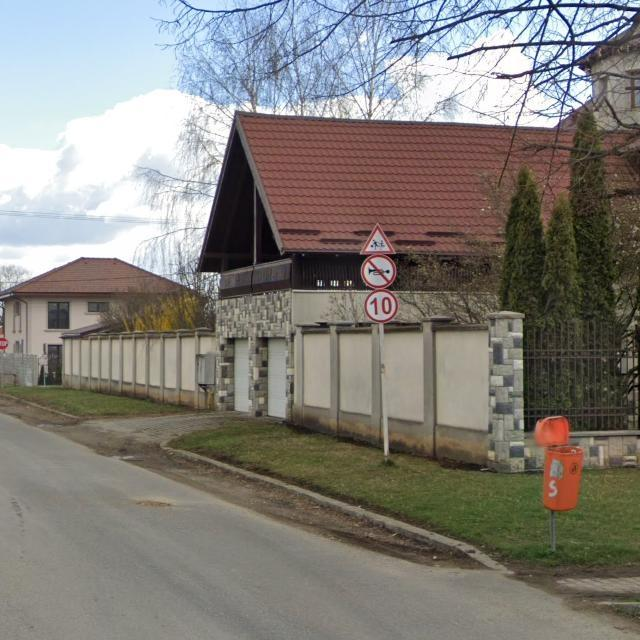forb_speed_over_10: (365, 289, 398, 323)
